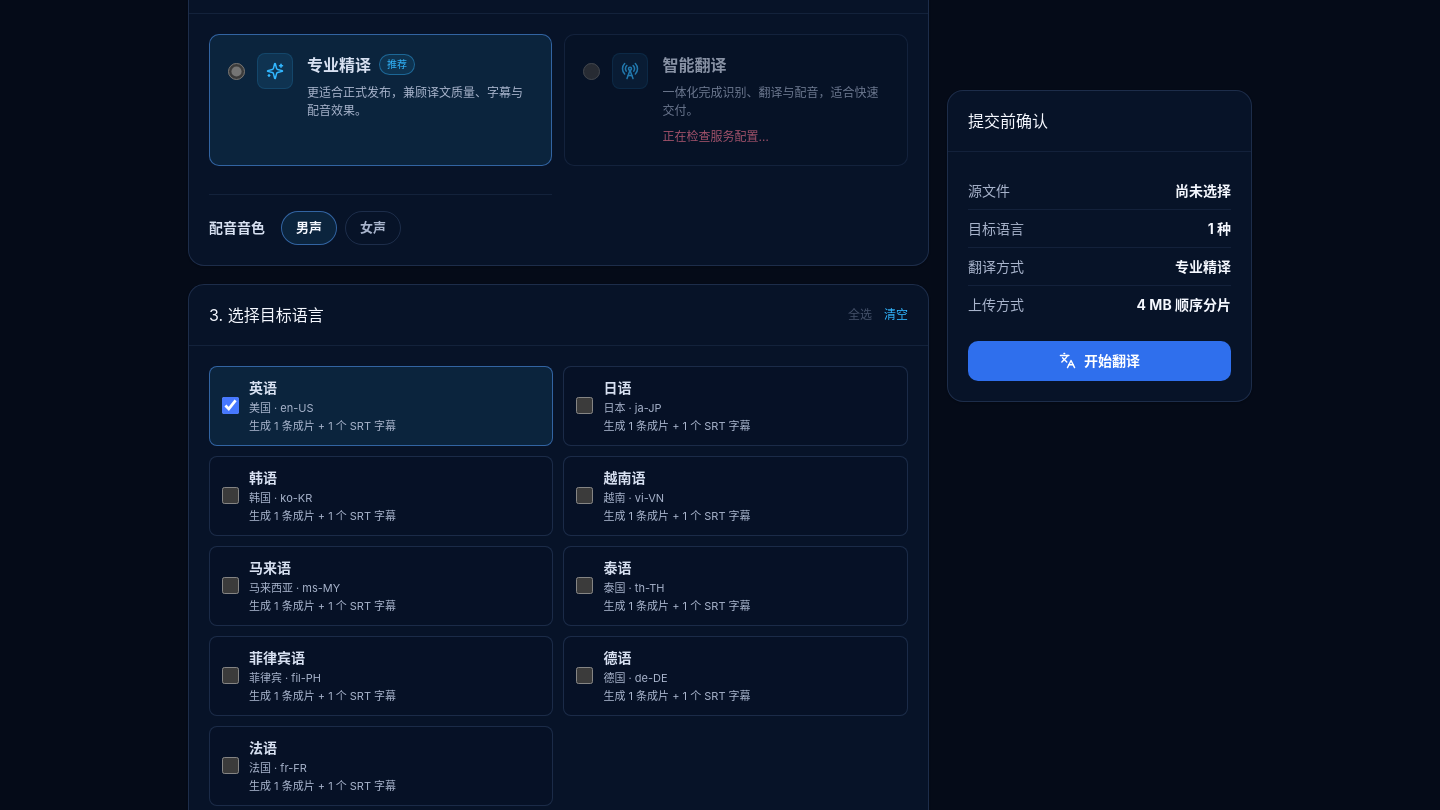
Scenario: NewTranslationView 字段级校验 › 交付文案随已选语言数实时更新
(page scrolled)
Click the checkbox labelled "日语 日本 · ja-JP 生成 1 条成片 + 1 个 SRT 字幕".
click(585, 406)  # box [576,397,594,414]
(page scrolled)
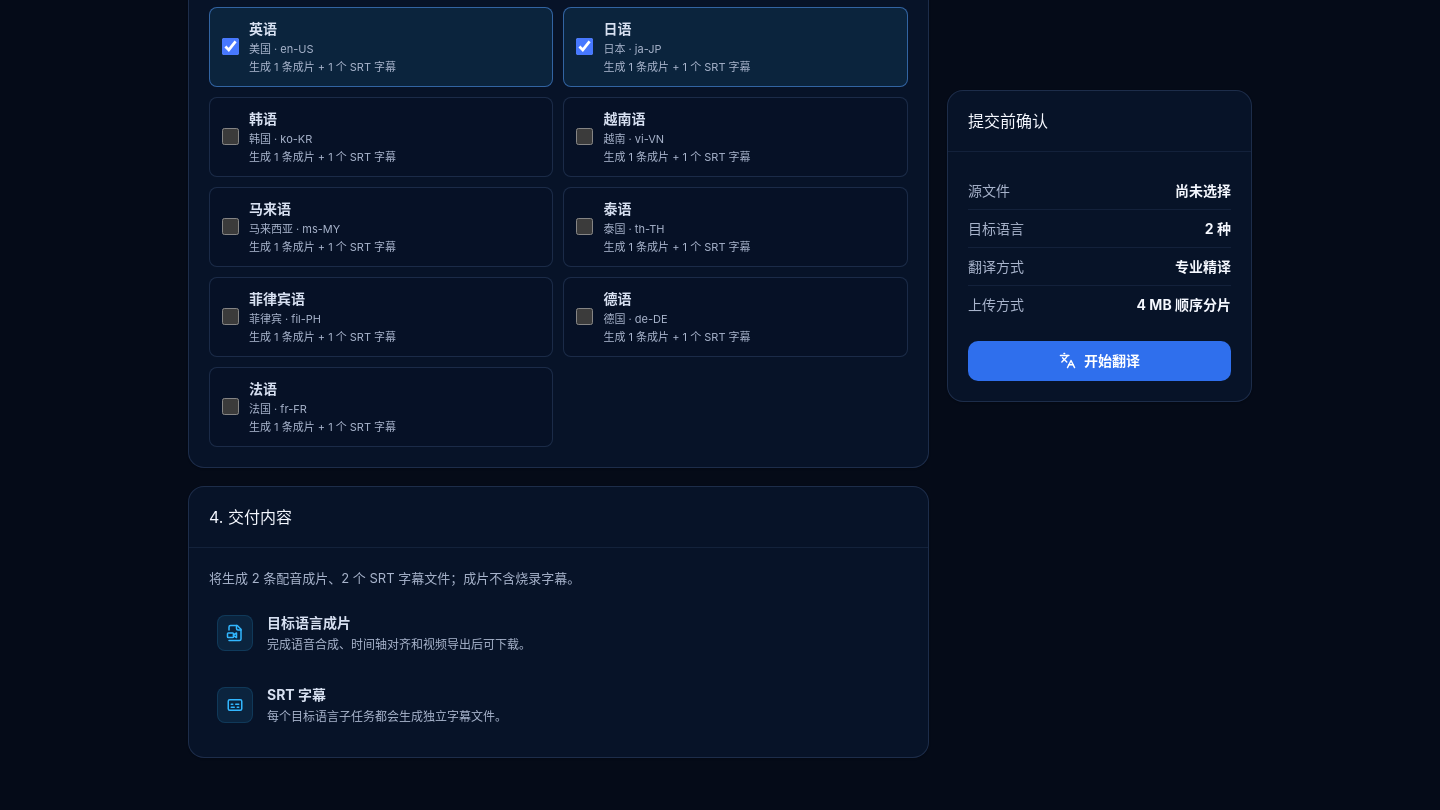
Result: the text with test id "delivery-summary" reads "将生成 2 条配音成片、2 个 SRT 字幕文件；成片不含烧录字幕。" at [209,570,580,586]
